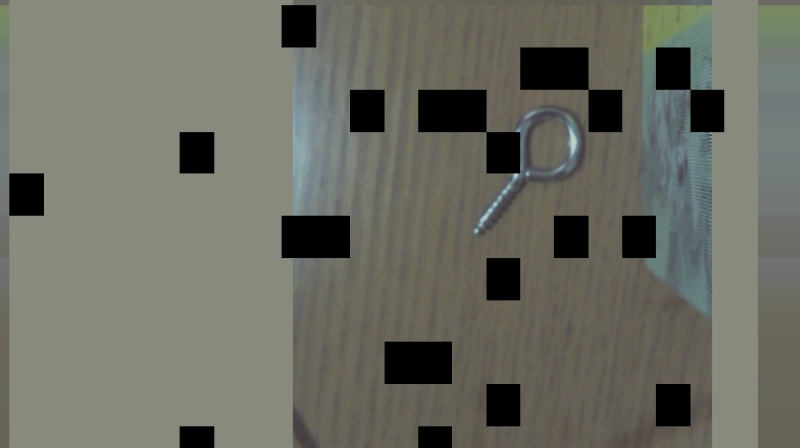O001: (467, 99, 589, 239)
